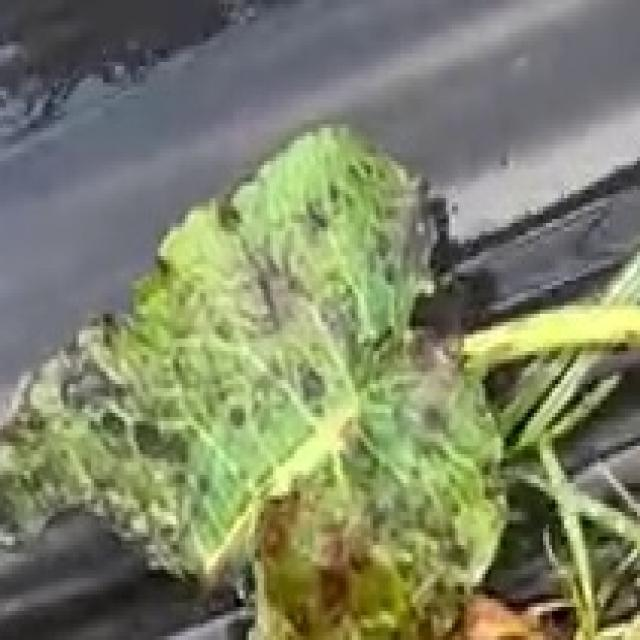organic waste: (72, 115, 638, 640)
